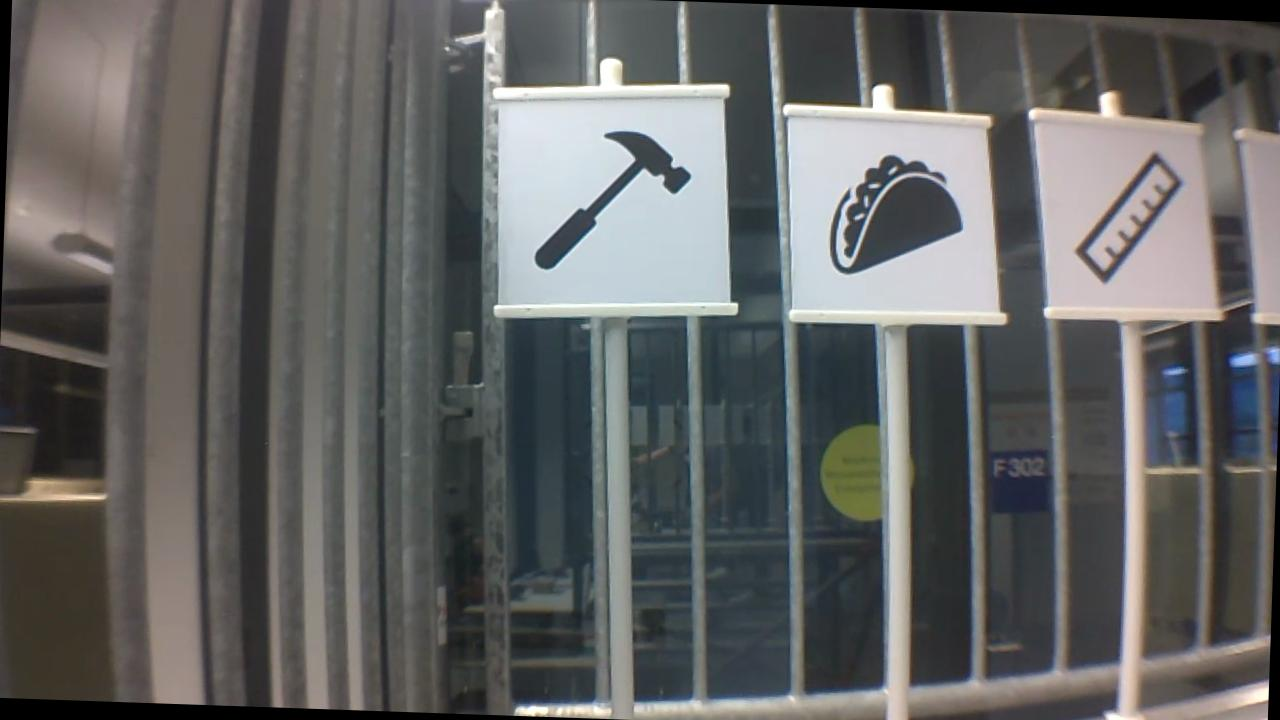hammer: (525, 121, 700, 279)
ruler: (1066, 143, 1190, 293)
taco: (819, 145, 968, 283)
